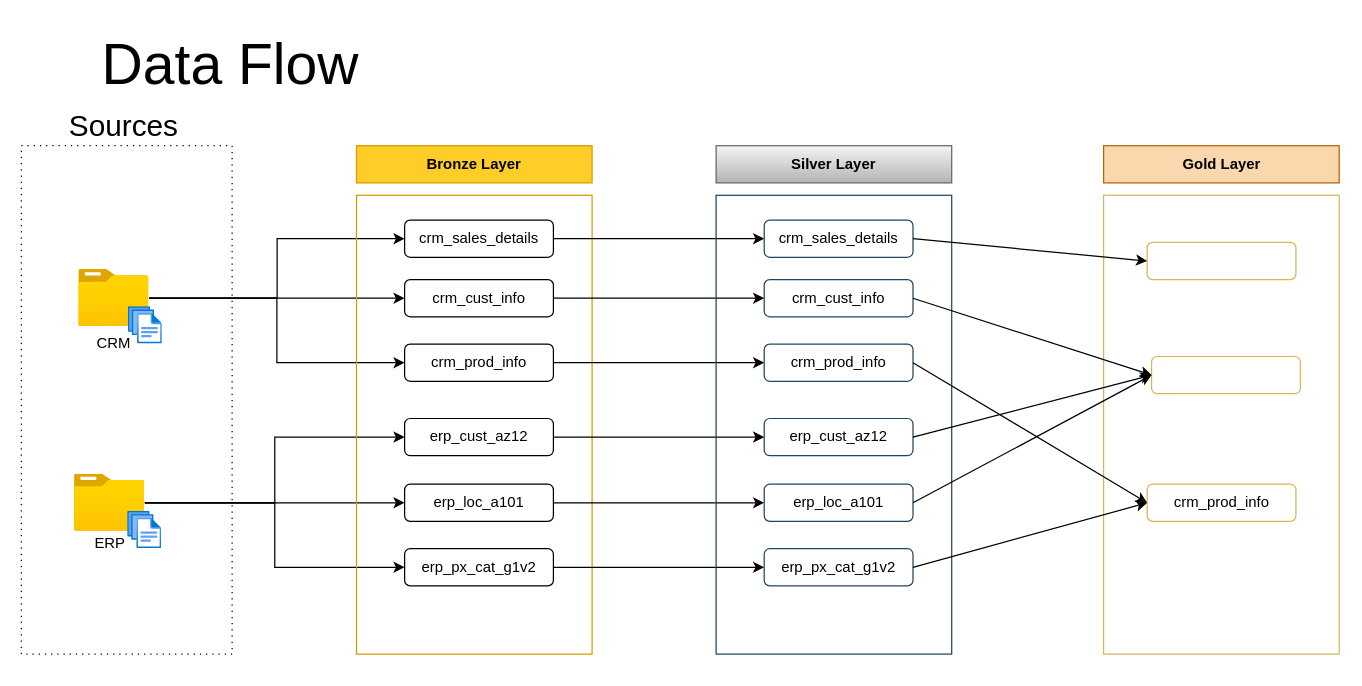
The diagram is 1362 pixels wide and 686 high, and some of its shapes have lost their labels. The centre of each missing label's shape, as x and y in pixels:
dim_customers: point 1225,374
fact_sales: point 1221,260
